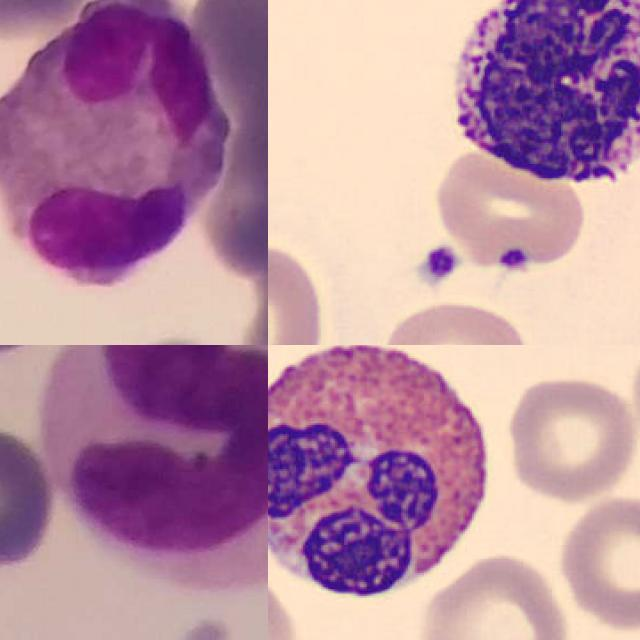Basophil: (433, 0, 640, 215)
Eosinophil: (0, 0, 232, 290), (268, 345, 506, 613)
Neutrophil: (43, 345, 268, 591)
Platelets: (414, 240, 464, 286), (492, 242, 531, 273)
RBC: (428, 147, 590, 274), (504, 372, 640, 504), (410, 548, 577, 640), (553, 490, 640, 634), (372, 292, 536, 345), (268, 238, 332, 345)
